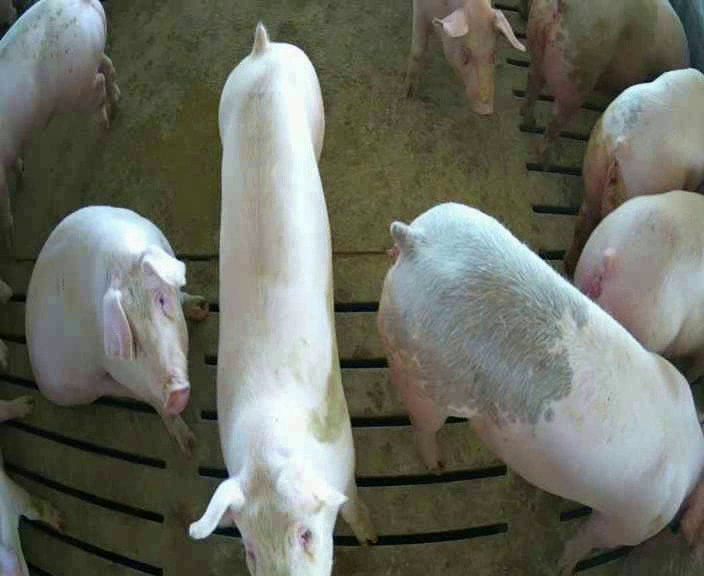pig: (378, 203, 703, 570), (189, 24, 375, 574), (26, 208, 207, 455), (565, 69, 703, 276), (521, 2, 688, 164), (574, 191, 703, 380), (406, 1, 524, 115)
